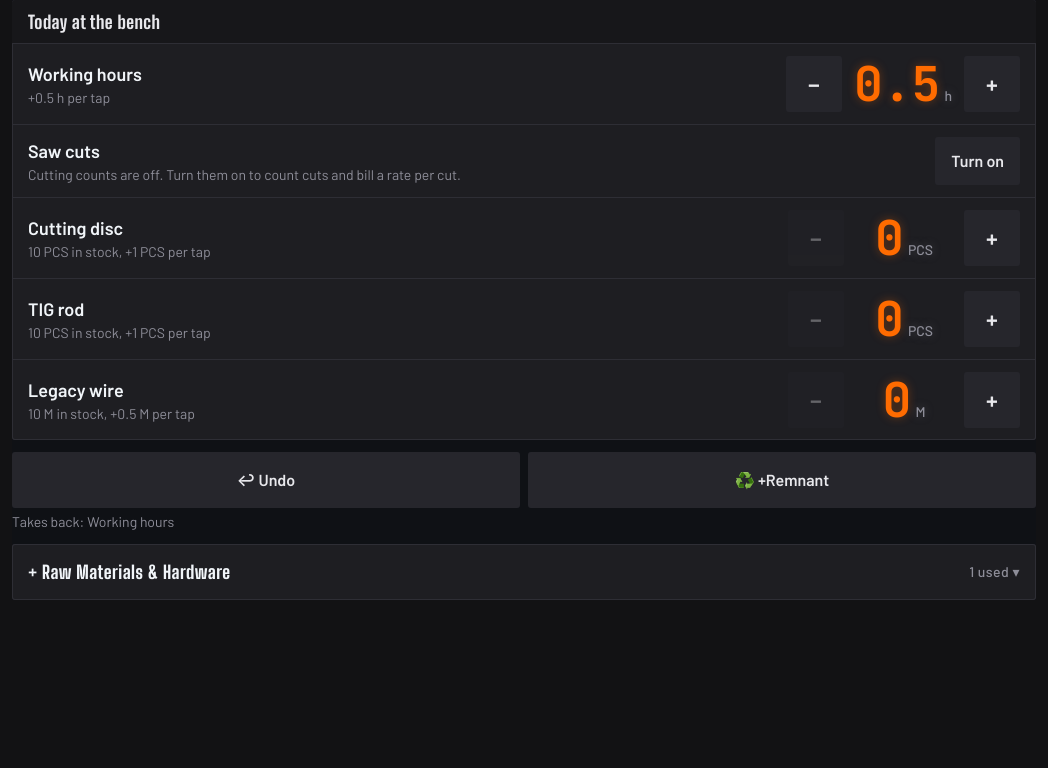
Test case: Undo › takes back the newest log of the whole project, whichever row it was on, and then waits for the save
Later steps or results of the test are not shown.
expect the text "Takes back: Working hours" is shown: met, box [12,513,174,530]
Click the button "↩ Undo".
click(266, 480)  # box [12,452,520,508]
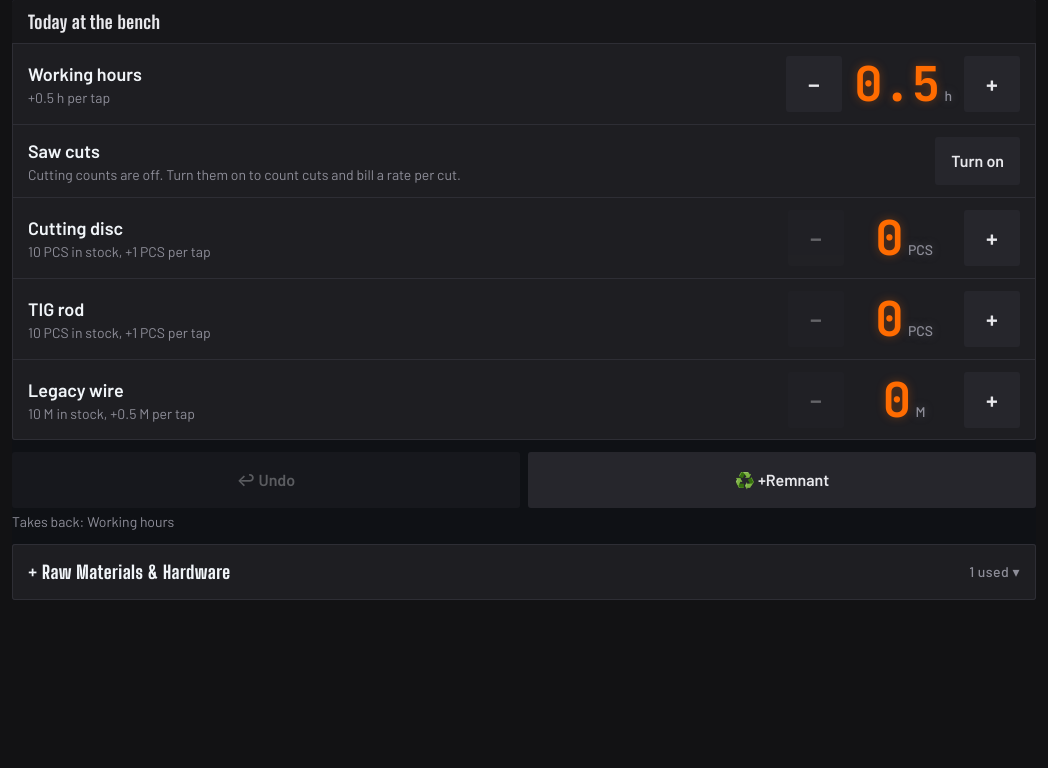
expect the button "↩ Undo" is disabled: met, box [12,452,520,508]
